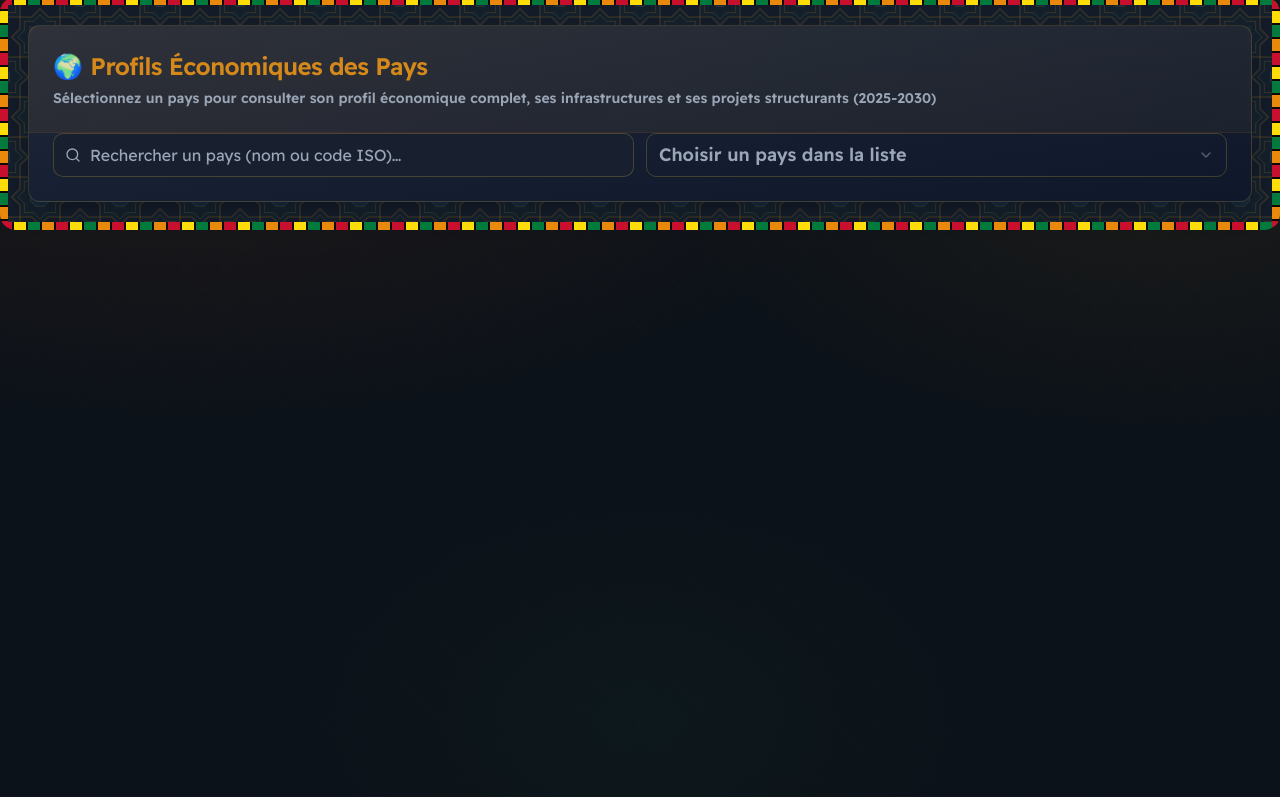
Scenario: Profils Pays — projets structurants › garde le français ailleurs, et quand un champ arabe manque
Type "dza" into the dropdown with placeholder "Rechercher un pays (nom ou code ISO)…" at (344, 155), box [53, 133, 634, 177]
Then press Enter
(page scrolled)
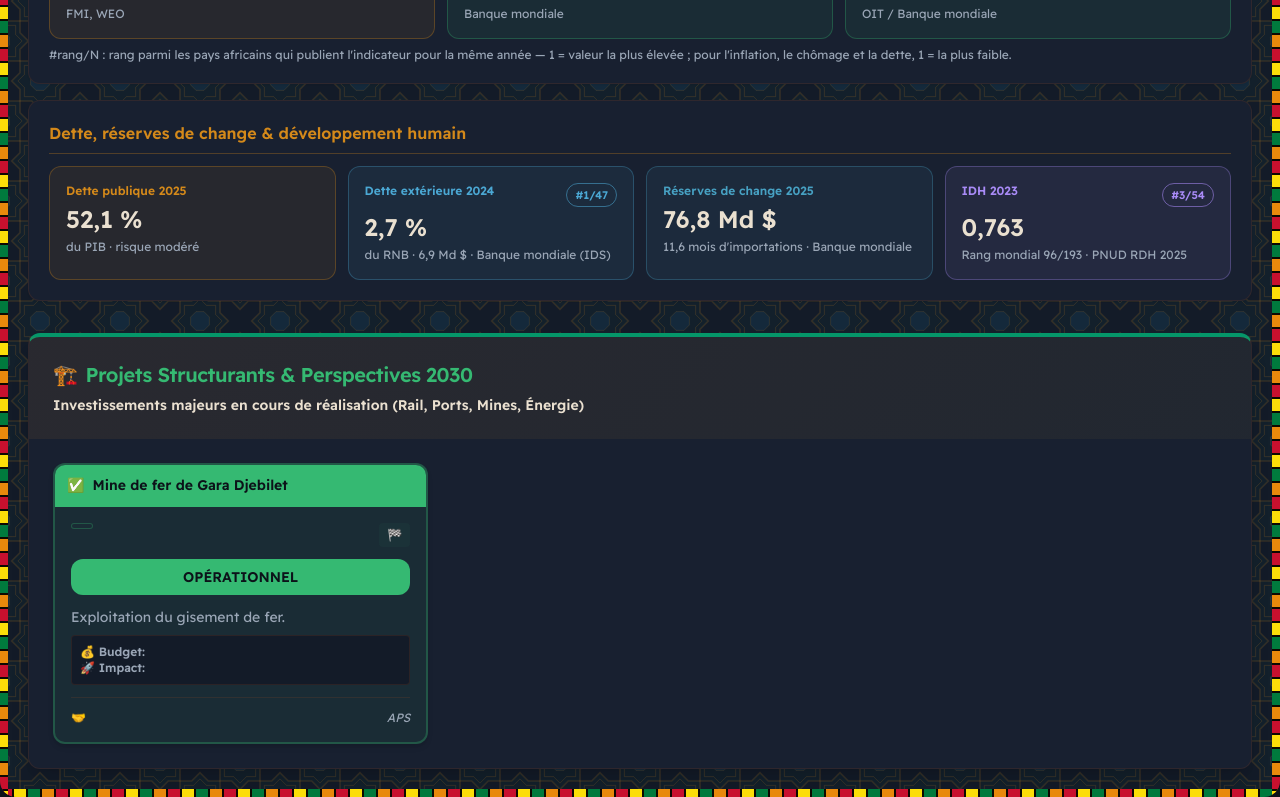
Expected: the heading "✅ Mine de fer de Gara Djebilet" is shown, [67, 476, 288, 494]
